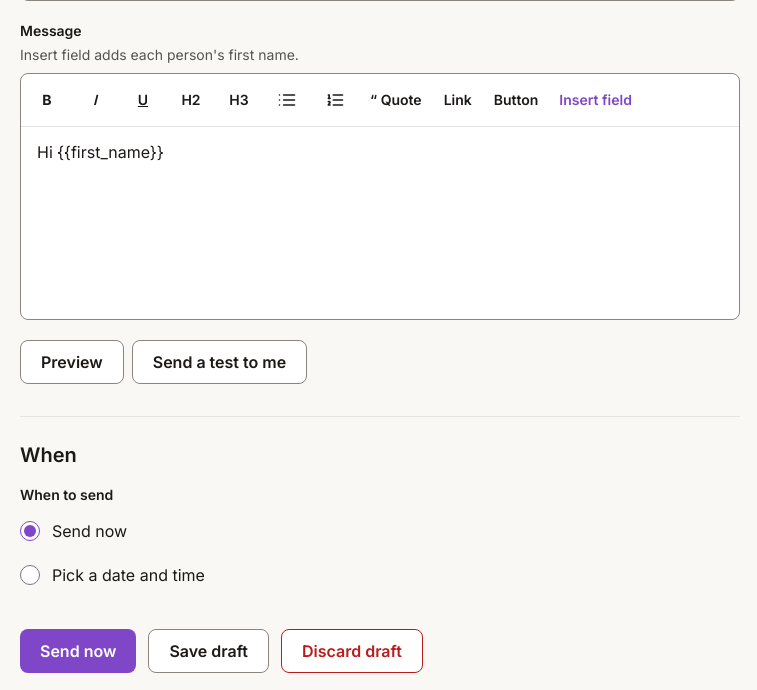
Test: MessageComposerPage › schedules for a picked time after confirming the count
(page scrolled)
Click the radio button labelled "Pick a date and time".
click(30, 575)  # box [20,565,40,585]
(page scrolled)
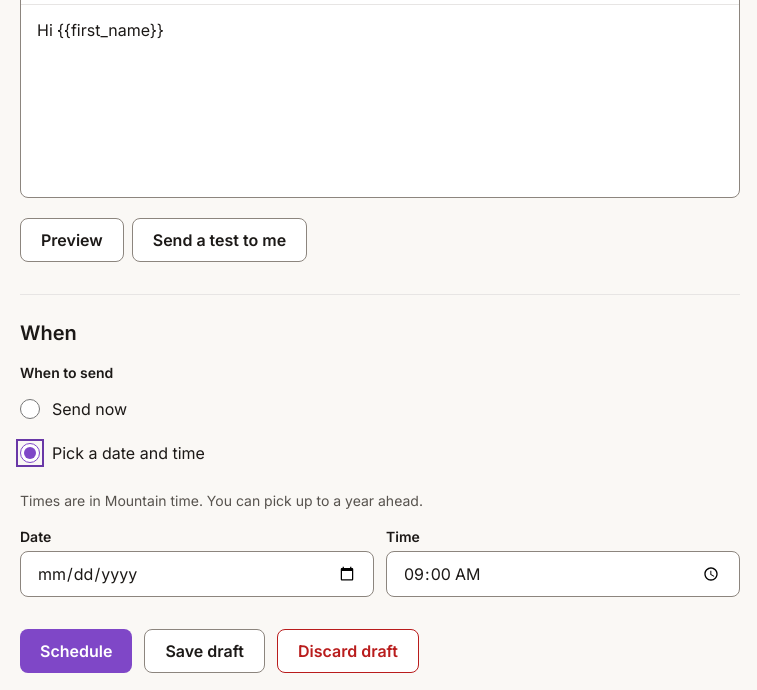
Expected: the text "Times are in Mountain time. You can pick up to a year ahead." is shown, [20,492,423,509]
Type "2026-11-03" into the date field labelled "Date".
click(197, 574); type("2026-11-03")  # box [20,551,374,597]
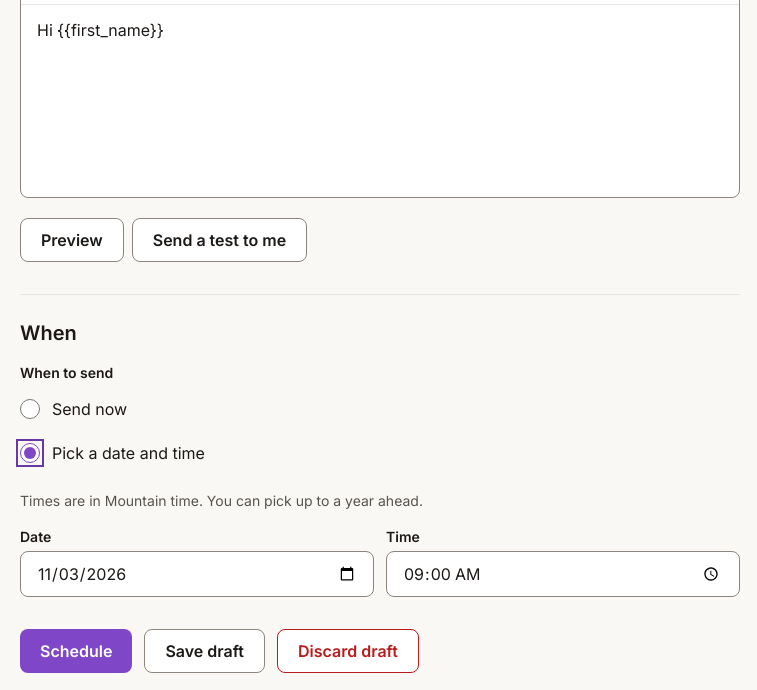
Replace the text in the time field labelled "Time" with "09:30" at (563, 574), box [386,551,740,597]
(page scrolled)
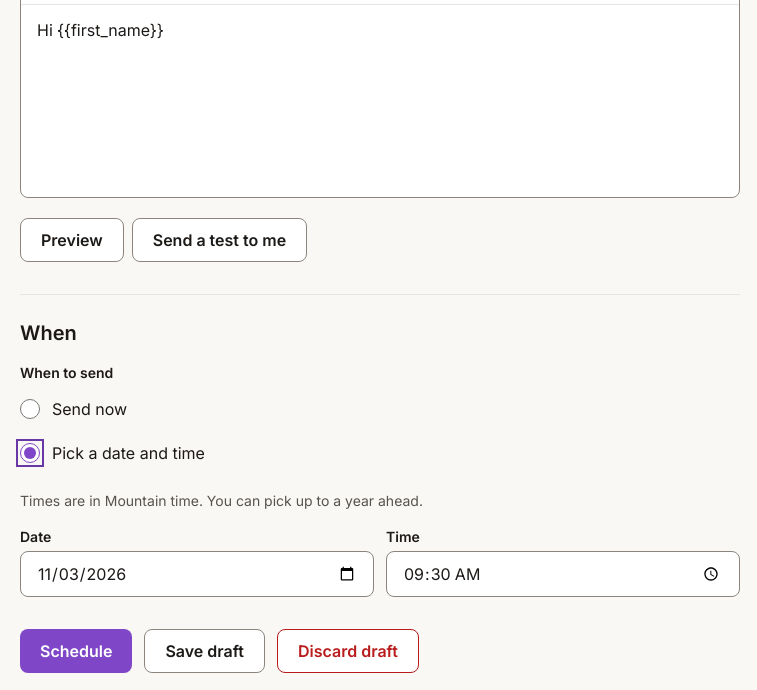
Click the button "Schedule".
click(76, 651)  # box [20,629,132,673]
(page scrolled)
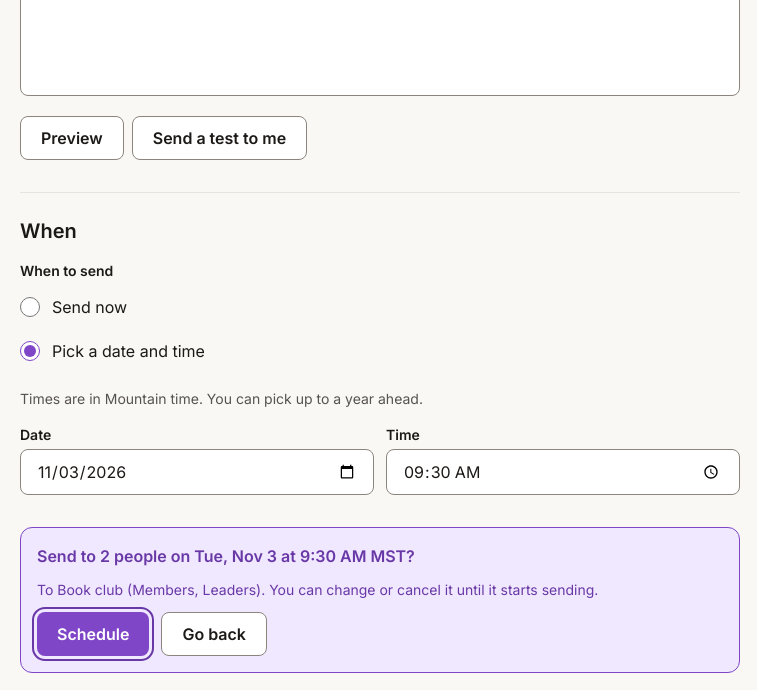
Click the button "Schedule".
click(93, 634)  # box [37,612,149,656]
(page scrolled)
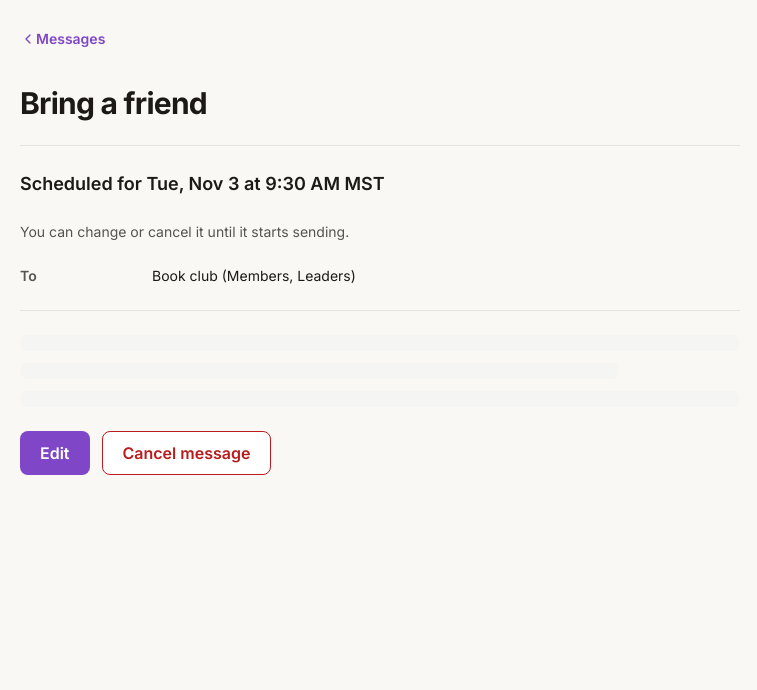
Expected: the text "Scheduled for Tue, Nov 3 at 9:30 AM MST" is shown, [20,173,385,194]
Expected: the button "Edit" is shown, [20,431,90,475]
